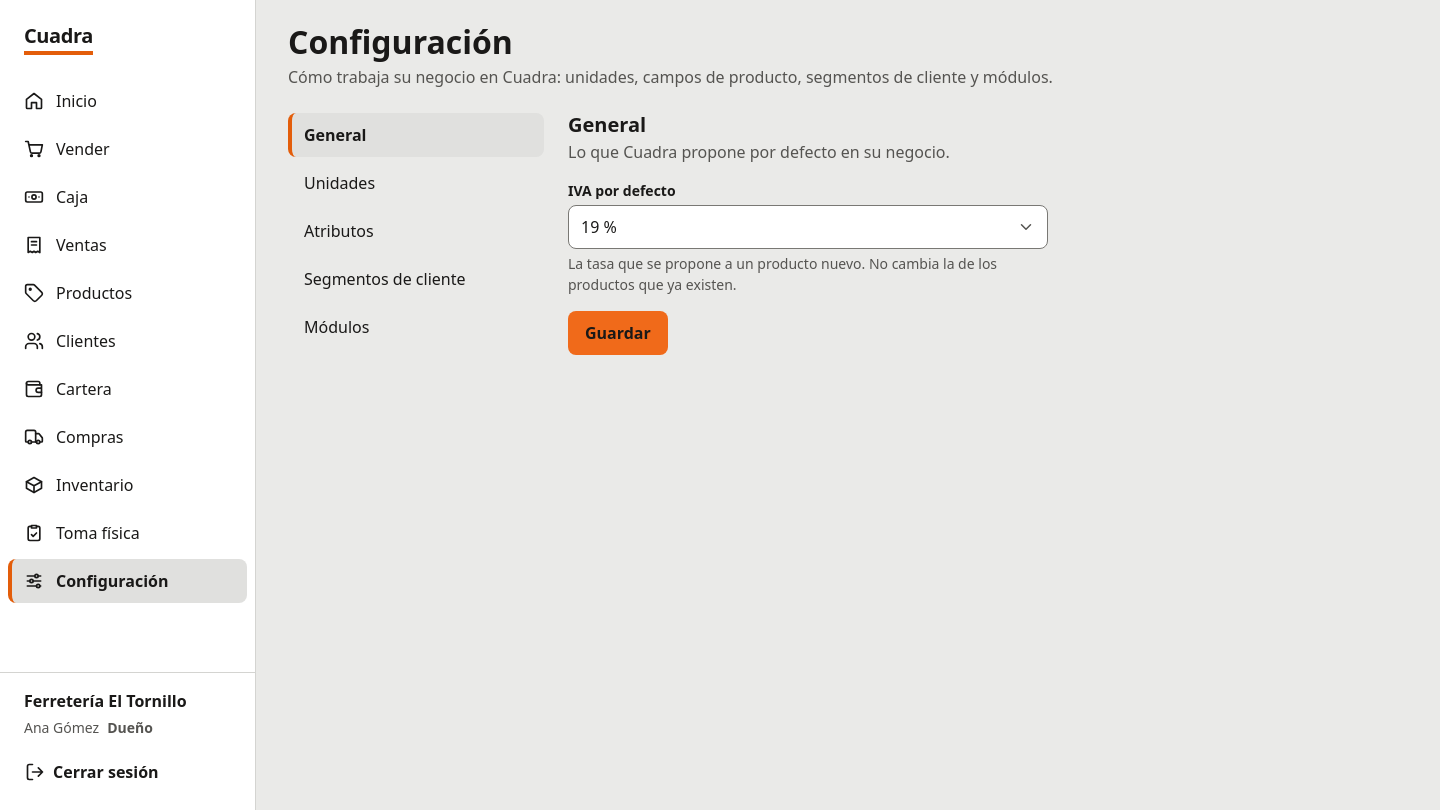
Scenario: GeneralSettings › guarda el IVA por defecto con PATCH /tenant y /me lo refleja
Click the dropdown named "IVA por defecto". click: [599, 227]
box: left=568, top=205, right=1048, bottom=249
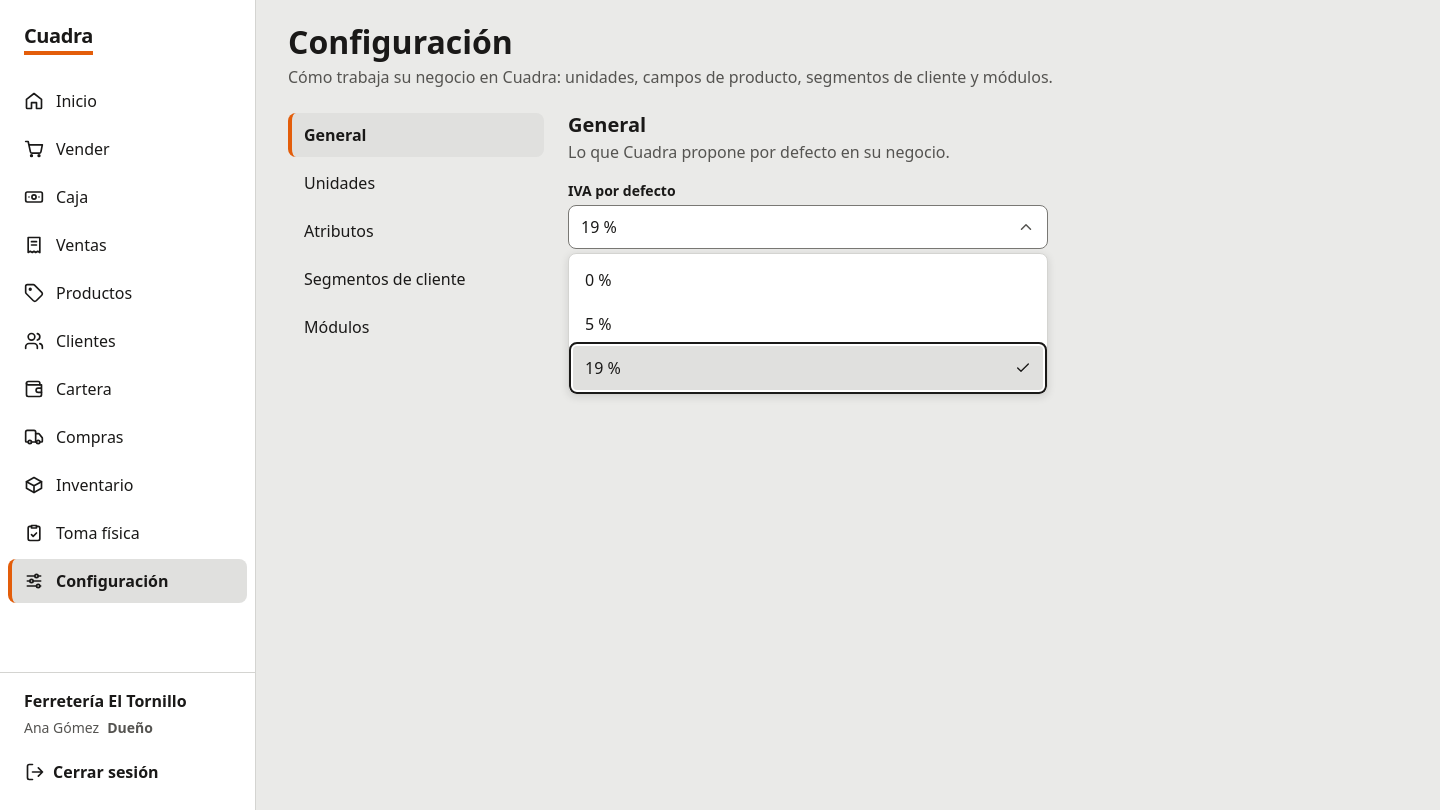
Click the option "5 %". click: [598, 324]
box: left=585, top=313, right=612, bottom=335
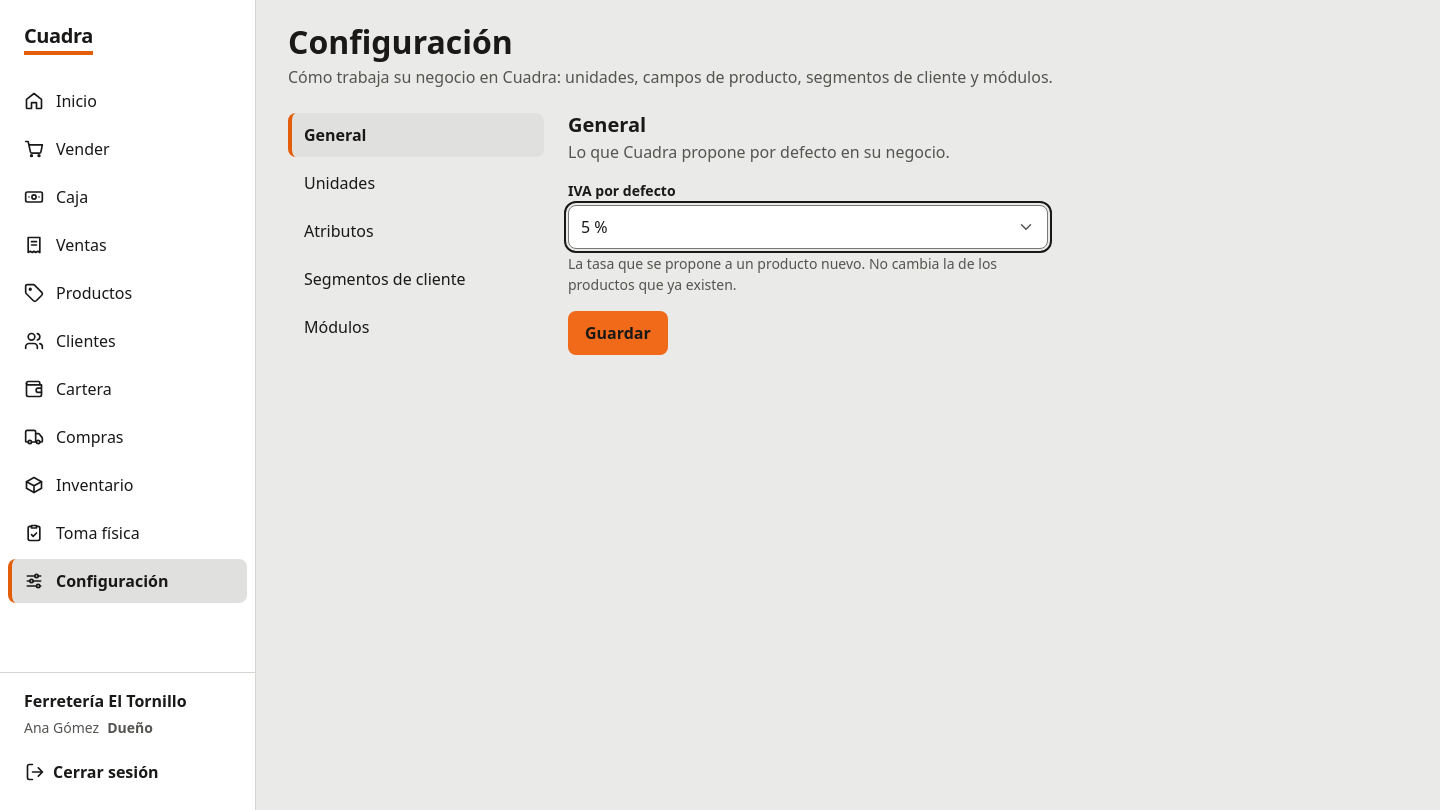
Click the button "Guardar". click: [618, 333]
box: left=568, top=311, right=668, bottom=355
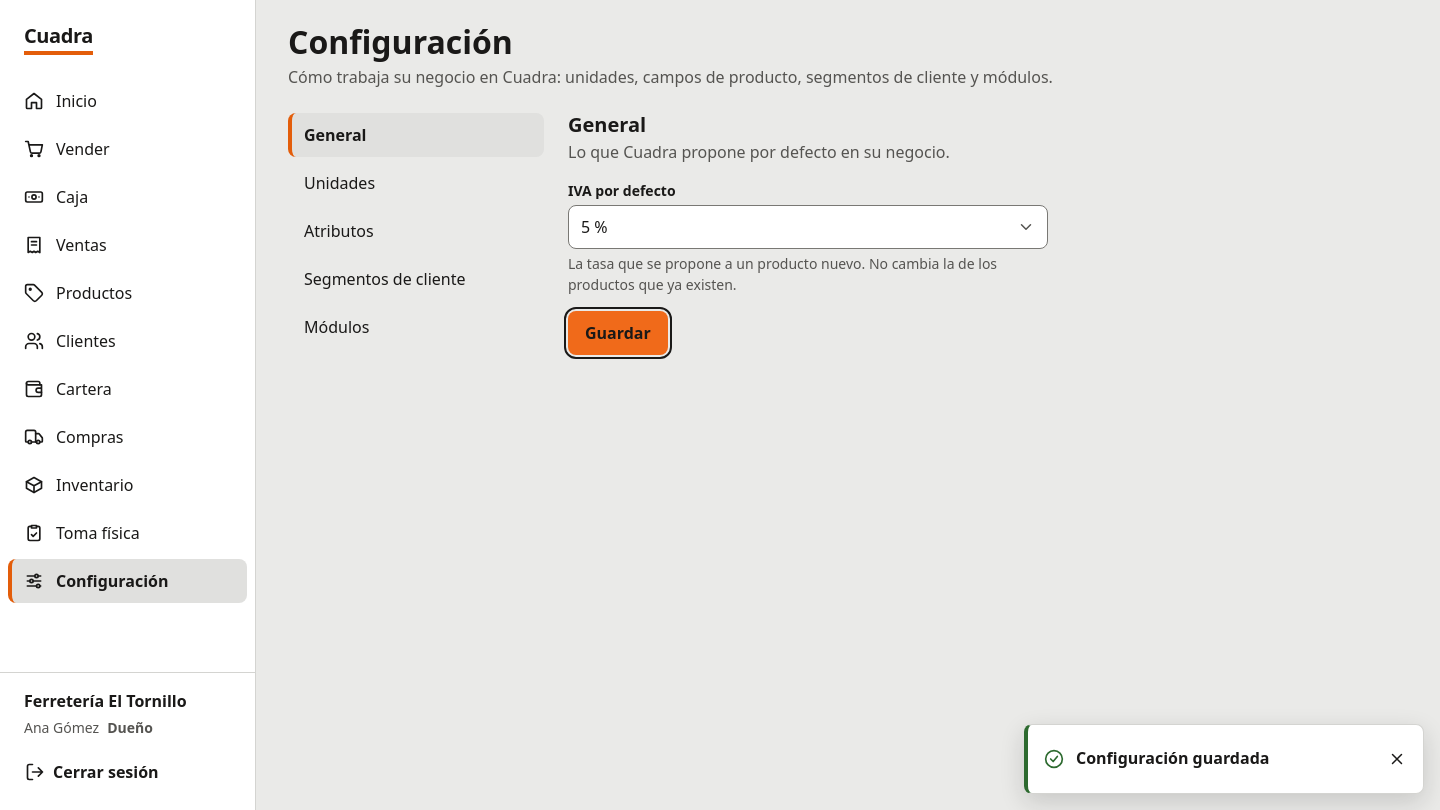
Now the text "Configuración guardada" is shown, box left=1076, top=747, right=1270, bottom=769
